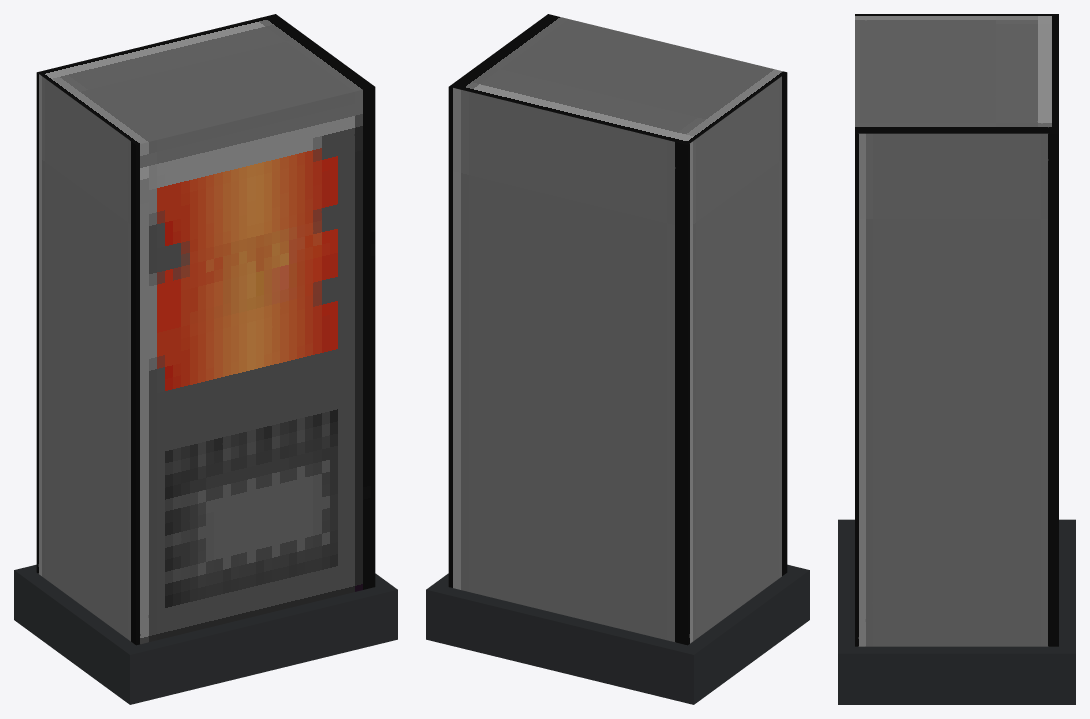
The model's file is Building_Heater.glb.
The picture shows the model from 3 angles, left to right: view 1: azimuth 30°, elevation 25°; view 2: azimuth 150°, elevation 25°; view 3: azimuth 270°, elevation 25°; orthographic projection. The views are drawn at different scales.
Visible parts, largest first — view 1: Heater; view 2: Heater; view 3: Heater.
Boxes of the visible parts, bbox=[...] form: Heater: bbox=[14, 14, 397, 704]; Heater: bbox=[426, 14, 809, 704]; Heater: bbox=[838, 14, 1075, 704].
Bounding box in the file's own units: 0.56 × 1.1 × 0.42.
Materials: 1 (1 with a texture image).
